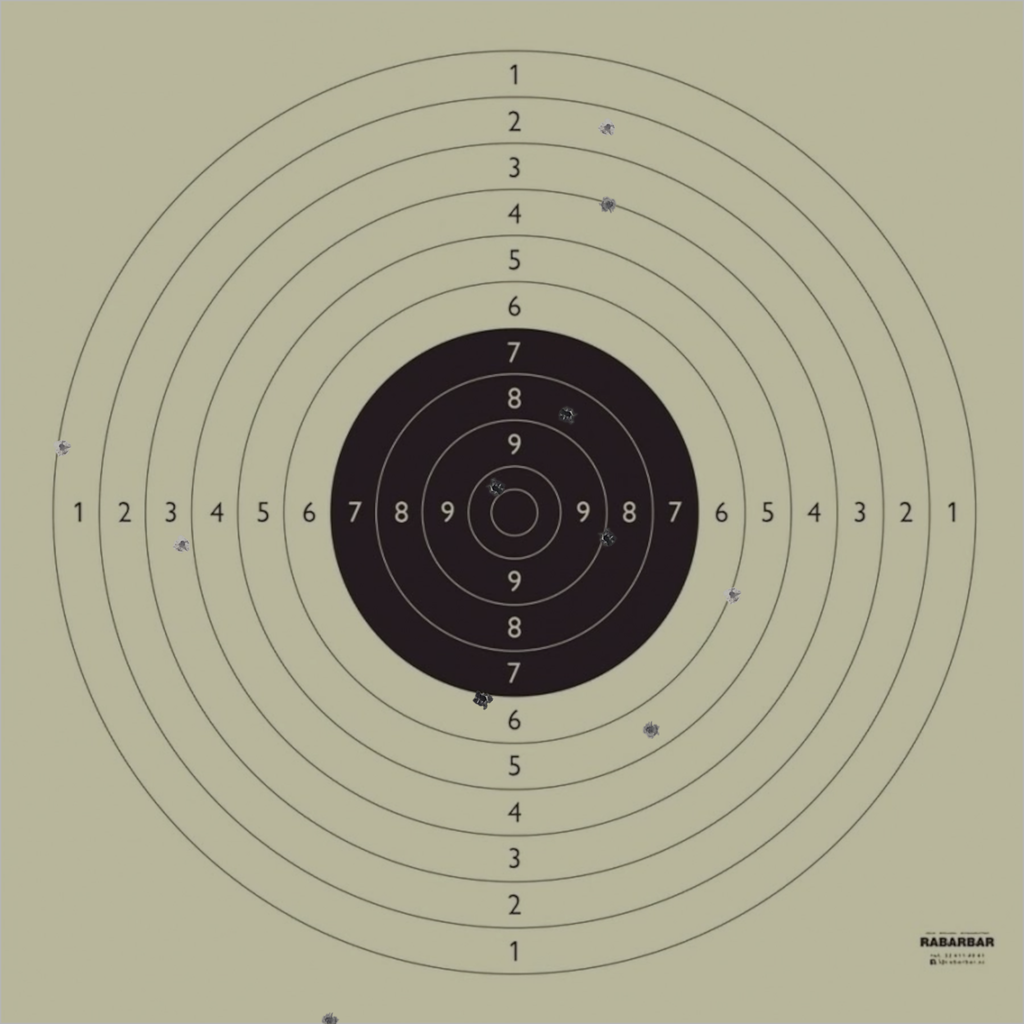0 punktow: (320, 1011, 339, 1024)
1 punkt: (53, 438, 72, 456)
10 punktow: (486, 479, 504, 497)
2 punkty: (599, 118, 617, 137)
3 punkty: (173, 535, 192, 554)
4 punkty: (600, 195, 618, 214)
5 punktow: (641, 721, 660, 739)
6 punktow: (723, 586, 742, 604)
7 punktow: (473, 689, 492, 708)
8 punktow: (559, 405, 577, 424)
9 punktow: (597, 529, 616, 547)
